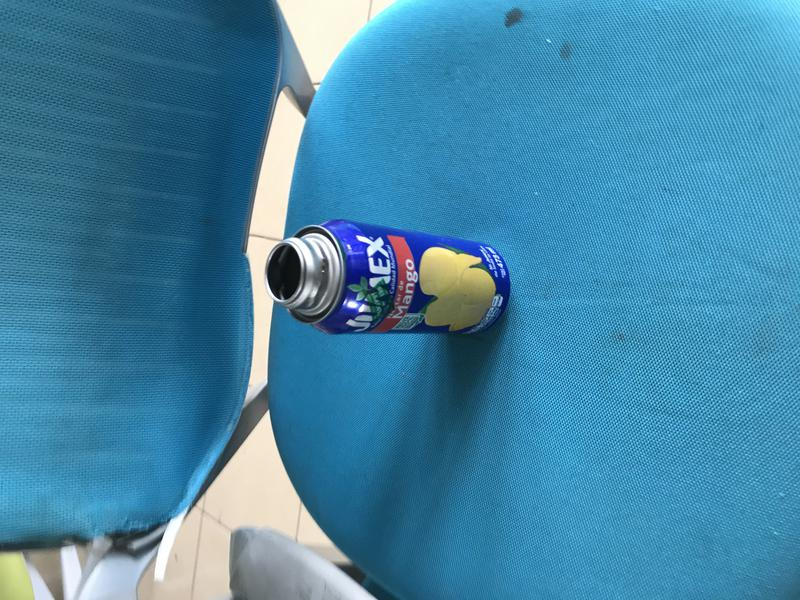jumex_botella: (263, 219, 511, 338)
